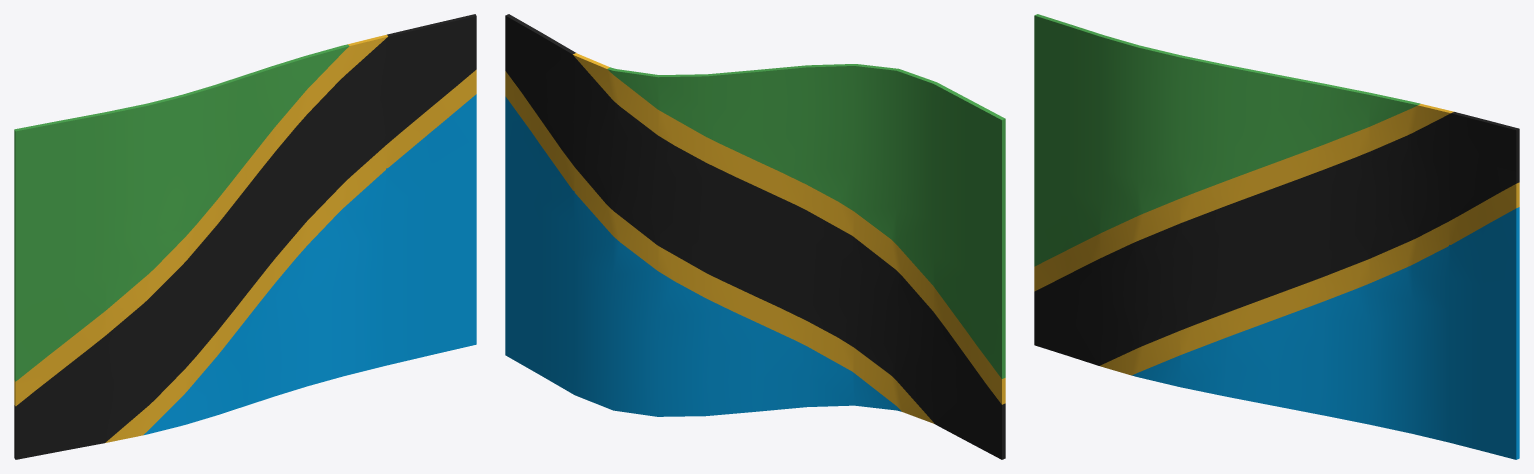
File: flag_tanzania.glb
3 renders of one model, left to right at view 1: azimuth 30°, elevation 25°; view 2: azimuth 150°, elevation 25°; view 3: azimuth 330°, elevation 25°, orthographic. The views are drawn at different scales.
Visible parts, largest first — view 1: flag_tanzania; view 2: flag_tanzania; view 3: flag_tanzania.
Part boxes in pixels (x1,y1,x2,y2): flag_tanzania: (14,14,476,459); flag_tanzania: (505,14,1005,459); flag_tanzania: (1034,14,1519,459).
Size of the model in its own units: 2.18 by 1.58 by 0.3373.
1 material, 1 textured.
